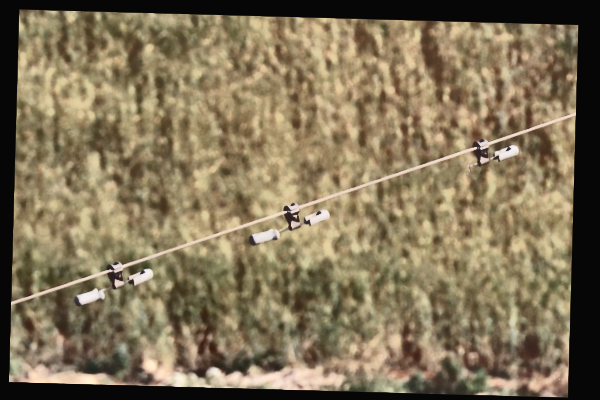damper: (245, 199, 333, 248), (72, 259, 154, 309)
damper_defect: (465, 135, 523, 174)
